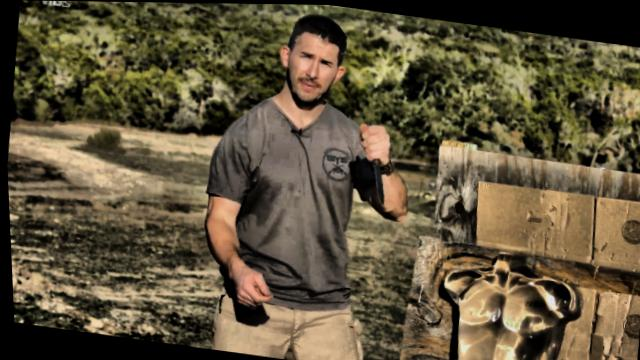knife: (344, 119, 398, 209)
